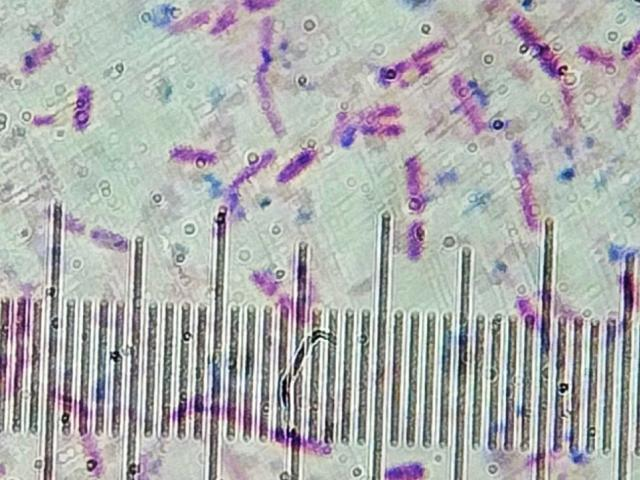E. coli: (508, 6, 559, 72), (256, 80, 293, 146), (388, 35, 441, 78), (446, 66, 480, 129), (511, 142, 534, 231), (63, 79, 97, 135), (399, 147, 429, 205), (271, 427, 334, 451), (382, 450, 433, 479), (281, 144, 317, 185), (232, 149, 271, 184), (89, 220, 126, 256), (168, 142, 219, 167), (616, 76, 639, 130), (16, 37, 54, 69), (168, 5, 201, 41), (258, 22, 285, 65), (576, 33, 608, 69), (405, 216, 427, 264), (78, 432, 105, 467), (362, 119, 395, 144), (362, 102, 391, 123), (248, 265, 270, 285), (211, 9, 228, 34), (251, 0, 273, 16), (516, 292, 533, 309)
